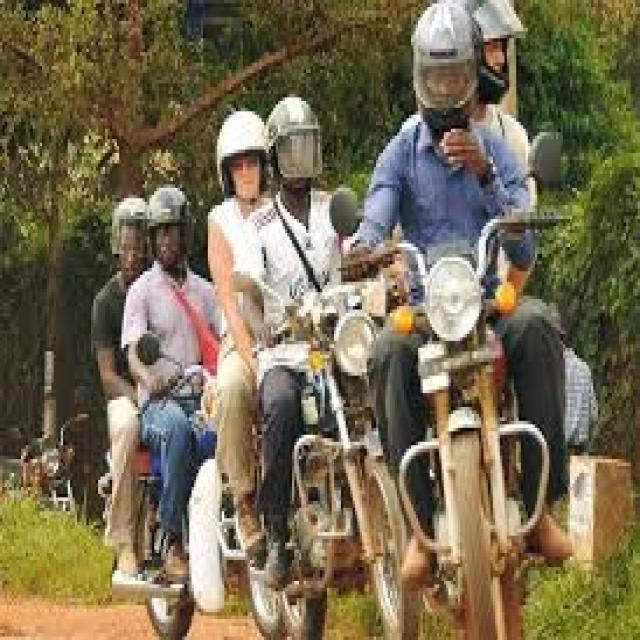bodaboda: (301, 163, 640, 640)
